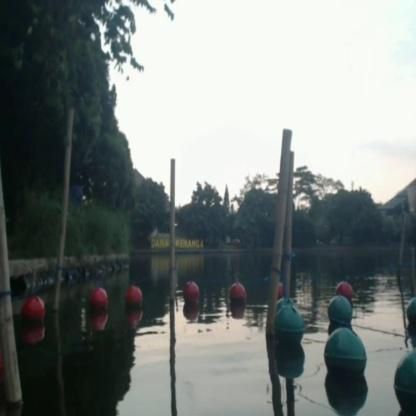green_buoy: (323, 324, 368, 392), (394, 351, 416, 415), (274, 306, 304, 352), (328, 298, 350, 320)
red_buoy: (24, 294, 46, 329), (125, 286, 145, 314), (90, 285, 108, 316), (184, 277, 200, 309), (230, 282, 246, 314), (335, 279, 354, 297)
